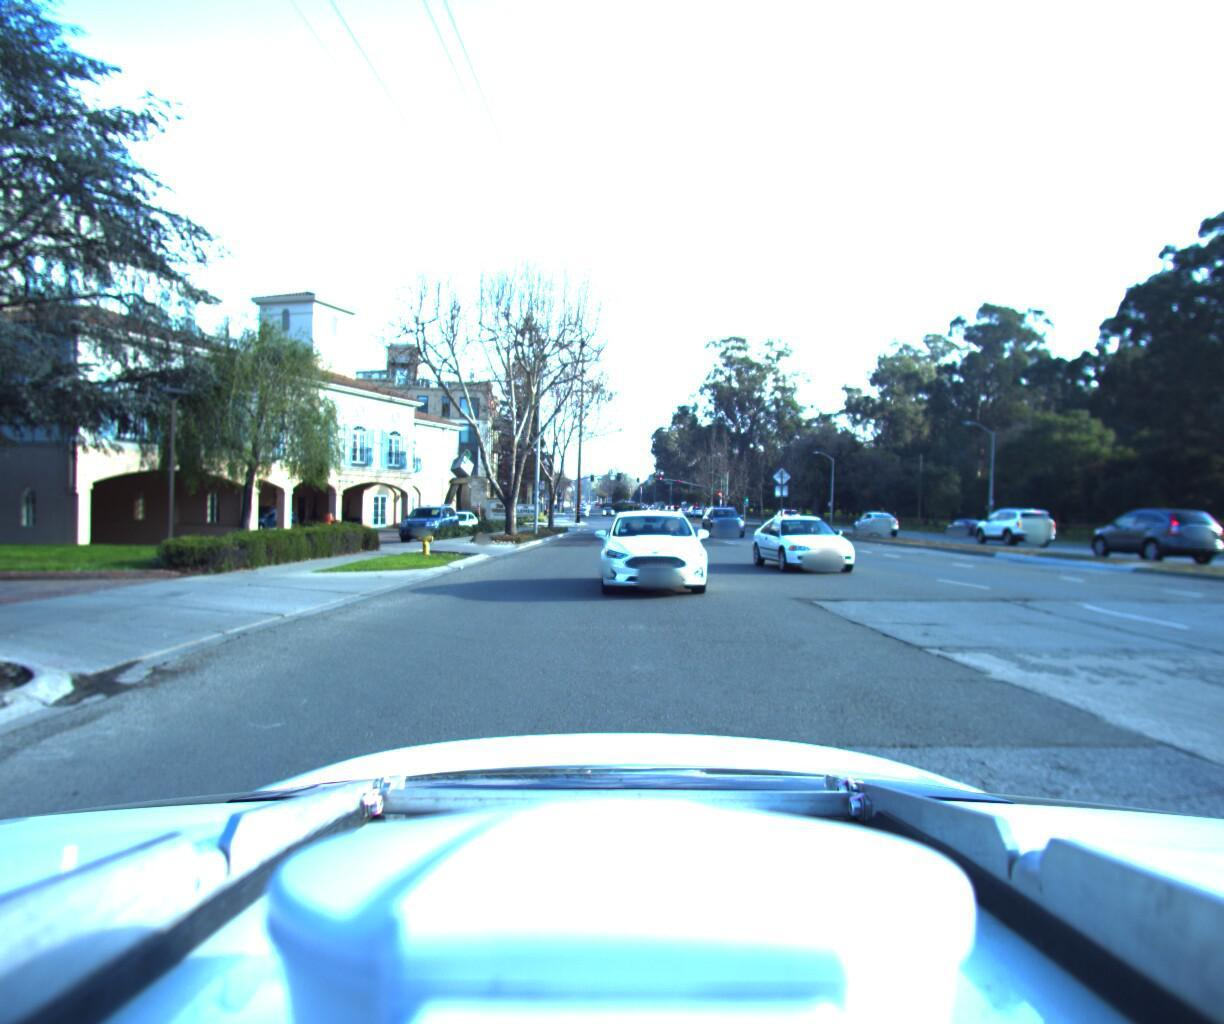car: (597, 501, 705, 600), (1065, 500, 1207, 559), (763, 508, 885, 577), (962, 499, 1046, 540), (217, 497, 306, 531), (396, 494, 462, 538), (702, 499, 754, 536), (435, 501, 484, 531), (843, 503, 895, 529), (773, 507, 802, 526)
